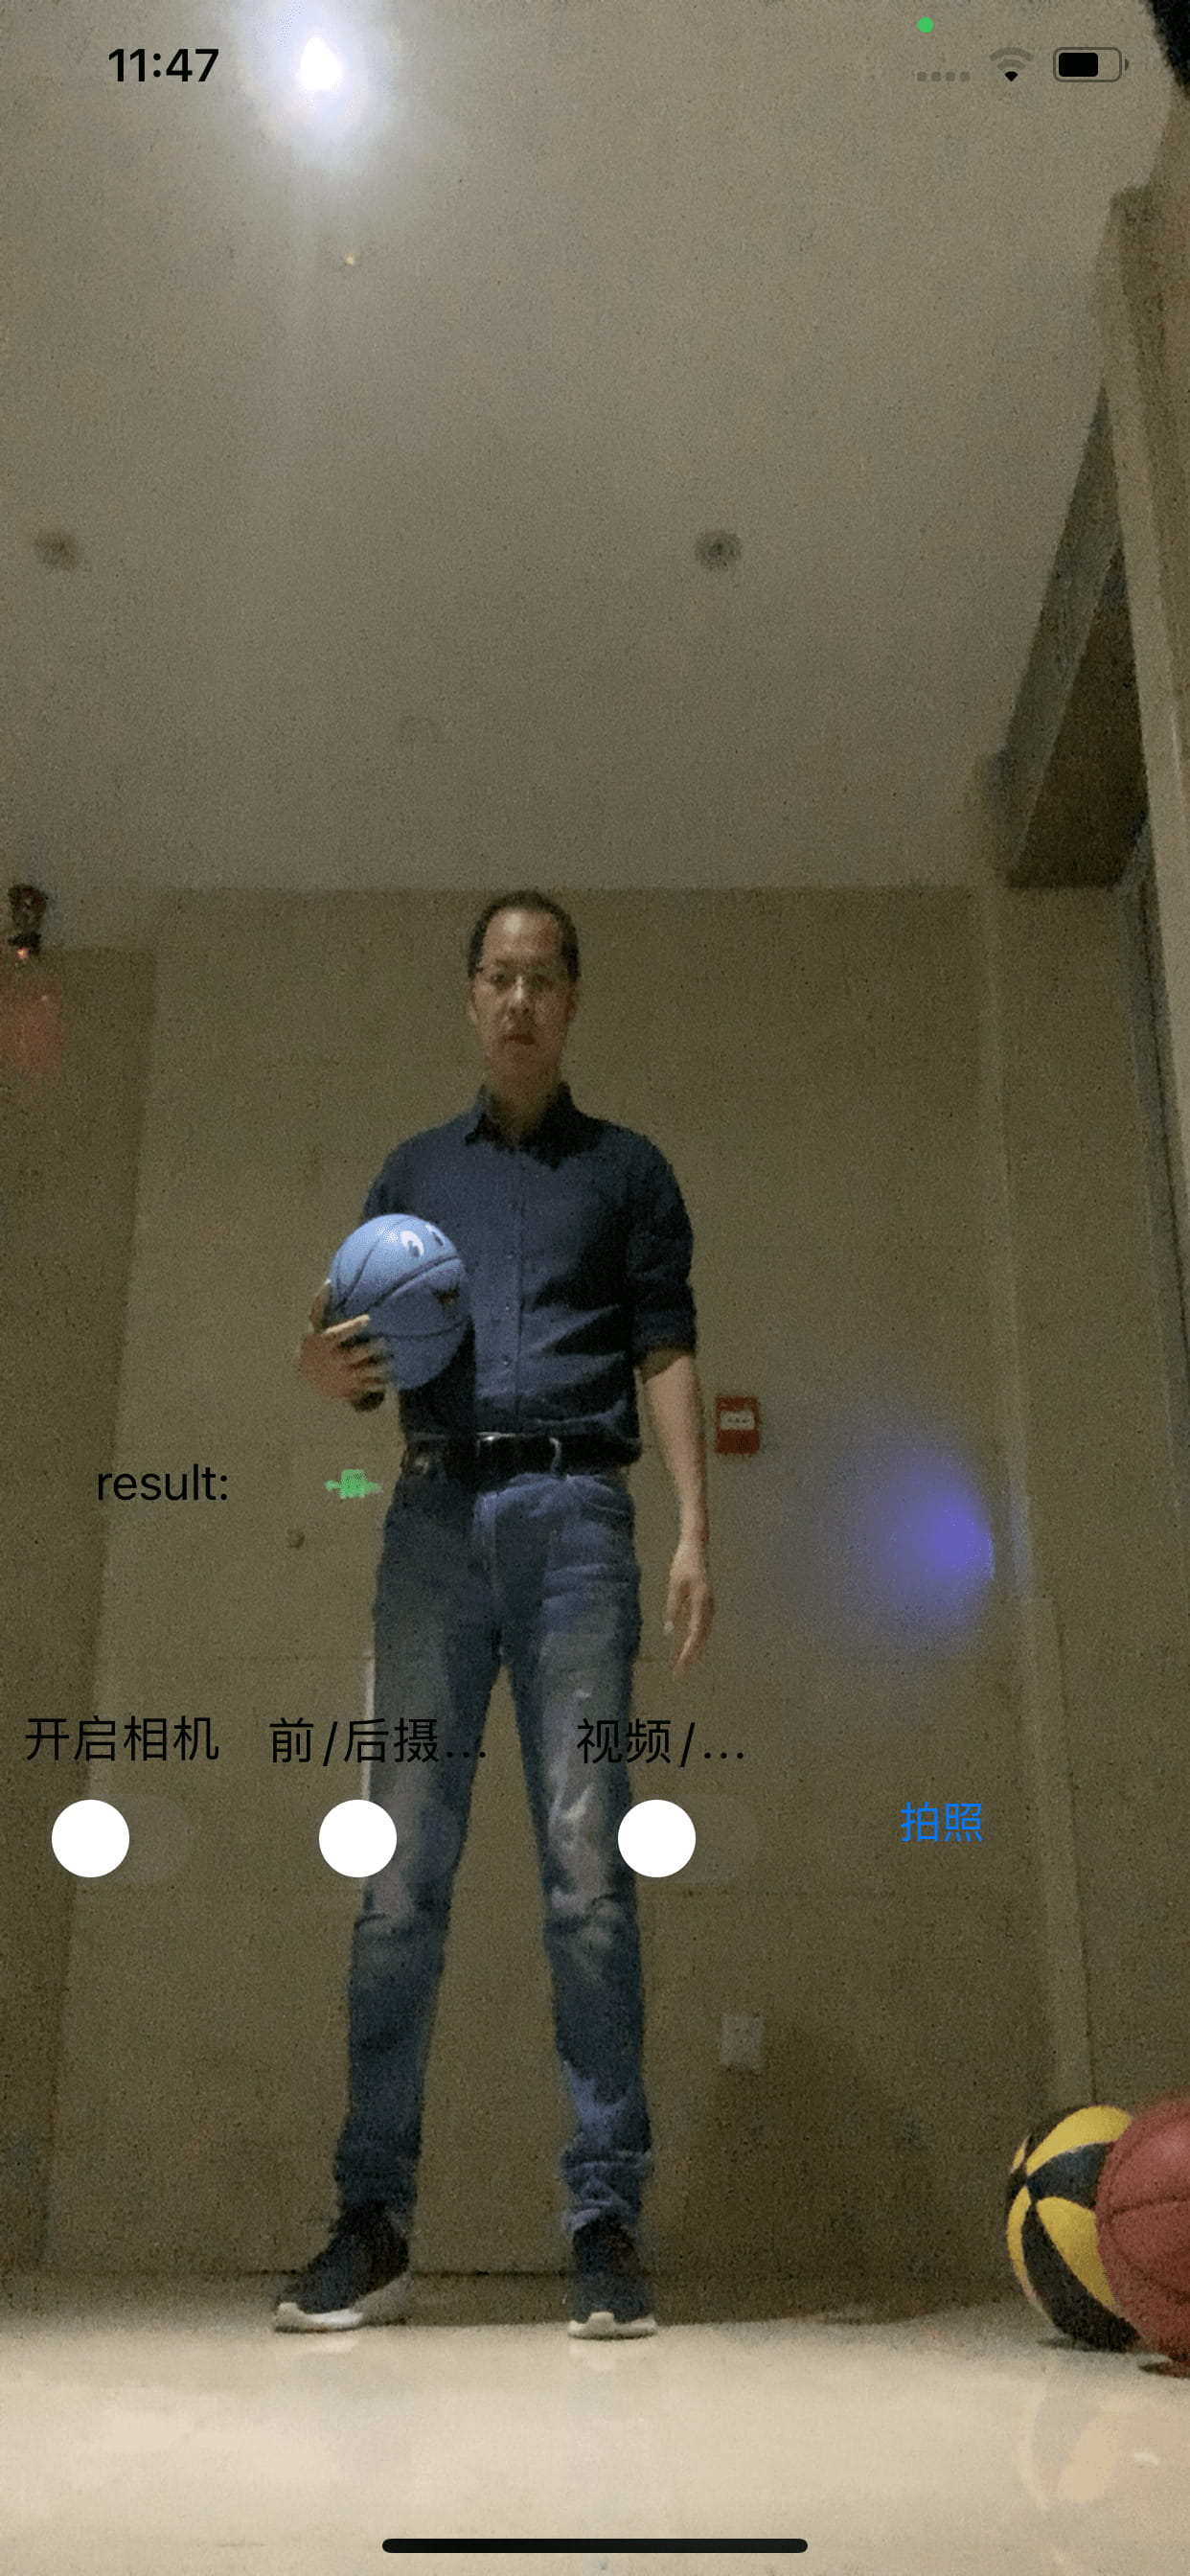ball: (319, 1207, 475, 1395), (1011, 2103, 1123, 2357), (1101, 2106, 1190, 2362)
